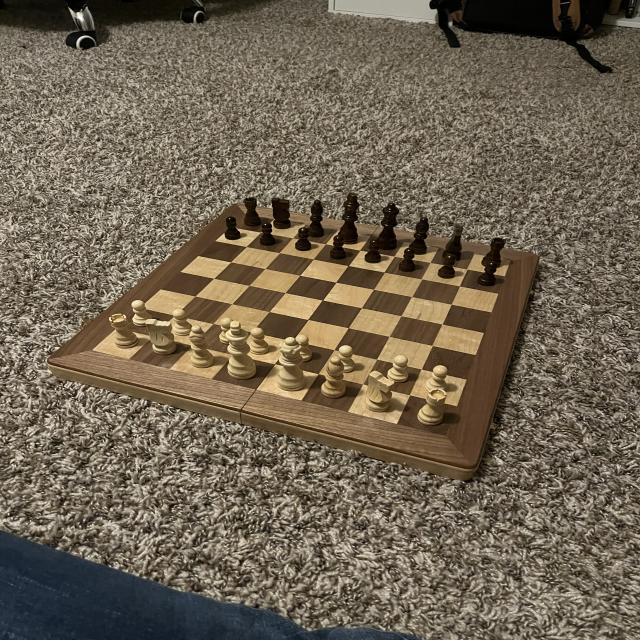bishop: (408, 217, 432, 256), (306, 199, 328, 238)
black-bishop: (332, 192, 363, 244)
black-king: (440, 222, 464, 262), (268, 196, 295, 230)
black-knight: (396, 246, 419, 274), (478, 260, 500, 287), (256, 222, 278, 248), (327, 235, 349, 261), (437, 253, 458, 280), (223, 215, 243, 241), (363, 238, 382, 265), (295, 227, 313, 252)
black-pawn: (376, 202, 400, 249)
black-queen: (478, 237, 507, 271), (242, 196, 261, 228)
black-rook: (186, 324, 217, 370), (319, 356, 348, 400)
white-bishop: (221, 320, 260, 381)
white-king: (362, 371, 397, 413), (142, 319, 180, 357)
white-knight: (127, 298, 153, 328), (424, 363, 450, 393), (246, 326, 271, 356), (386, 354, 411, 384), (333, 343, 357, 374), (170, 308, 195, 337), (218, 316, 242, 345), (292, 333, 314, 362)
white-pawn: (275, 336, 310, 392)
white-queen: (417, 388, 448, 428), (108, 313, 141, 349)
